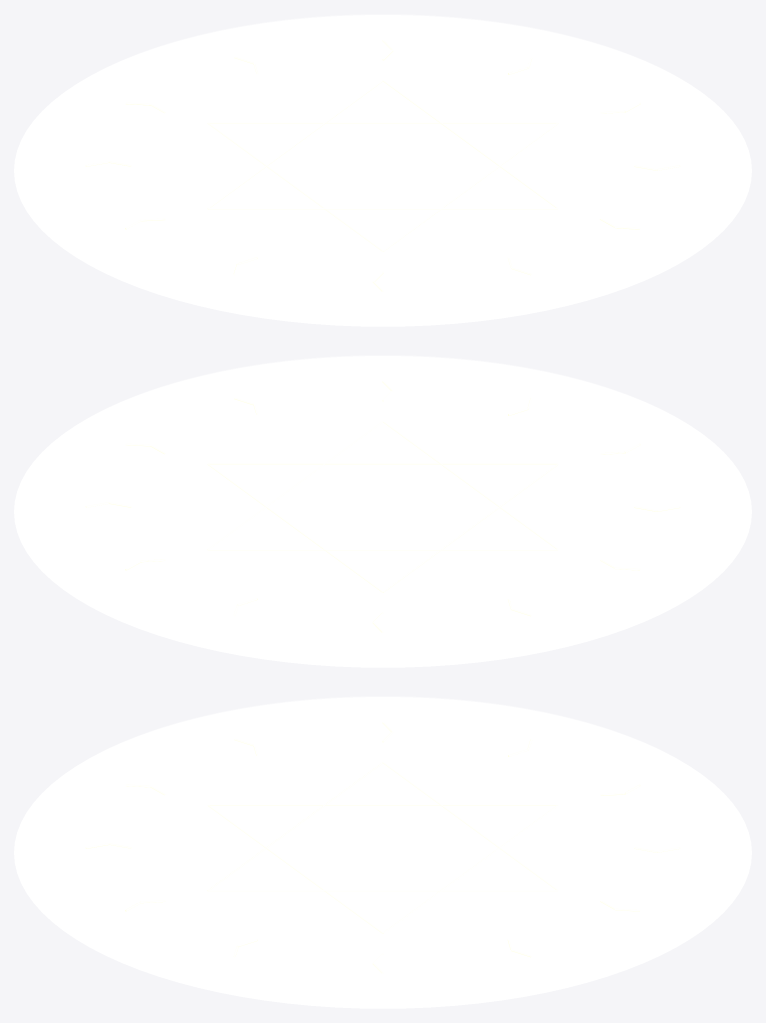
Rendered from frieren-magic.glb.
The picture shows the model from 3 angles, top to bottom: view 1: azimuth 30°, elevation 25°; view 2: azimuth 150°, elevation 25°; view 3: azimuth 270°, elevation 25°; orthographic projection.
Visible parts, largest first — view 1: LandingField, CircularGlyph, OuterEnergyRing, InnerEnergyRing, SpellRing; view 2: LandingField, CircularGlyph, OuterEnergyRing, InnerEnergyRing, SpellRing; view 3: LandingField, CircularGlyph, OuterEnergyRing, InnerEnergyRing, SpellRing.
Part boxes in pixels (box(x1,y1,x2,y2)): LandingField: box(14, 15, 751, 326); CircularGlyph: box(85, 40, 680, 292); OuterEnergyRing: box(16, 14, 749, 323); InnerEnergyRing: box(52, 28, 713, 307); SpellRing: box(178, 80, 587, 253); LandingField: box(14, 356, 751, 667); CircularGlyph: box(85, 381, 680, 633); OuterEnergyRing: box(16, 355, 749, 664); InnerEnergyRing: box(52, 369, 713, 648); SpellRing: box(178, 421, 587, 594); LandingField: box(14, 697, 751, 1008); CircularGlyph: box(85, 721, 680, 974); OuterEnergyRing: box(16, 696, 749, 1005); InnerEnergyRing: box(52, 710, 713, 989); SpellRing: box(178, 762, 587, 935).
Bounding box in the file's own units: 4.2 × 0.036 × 4.2.
